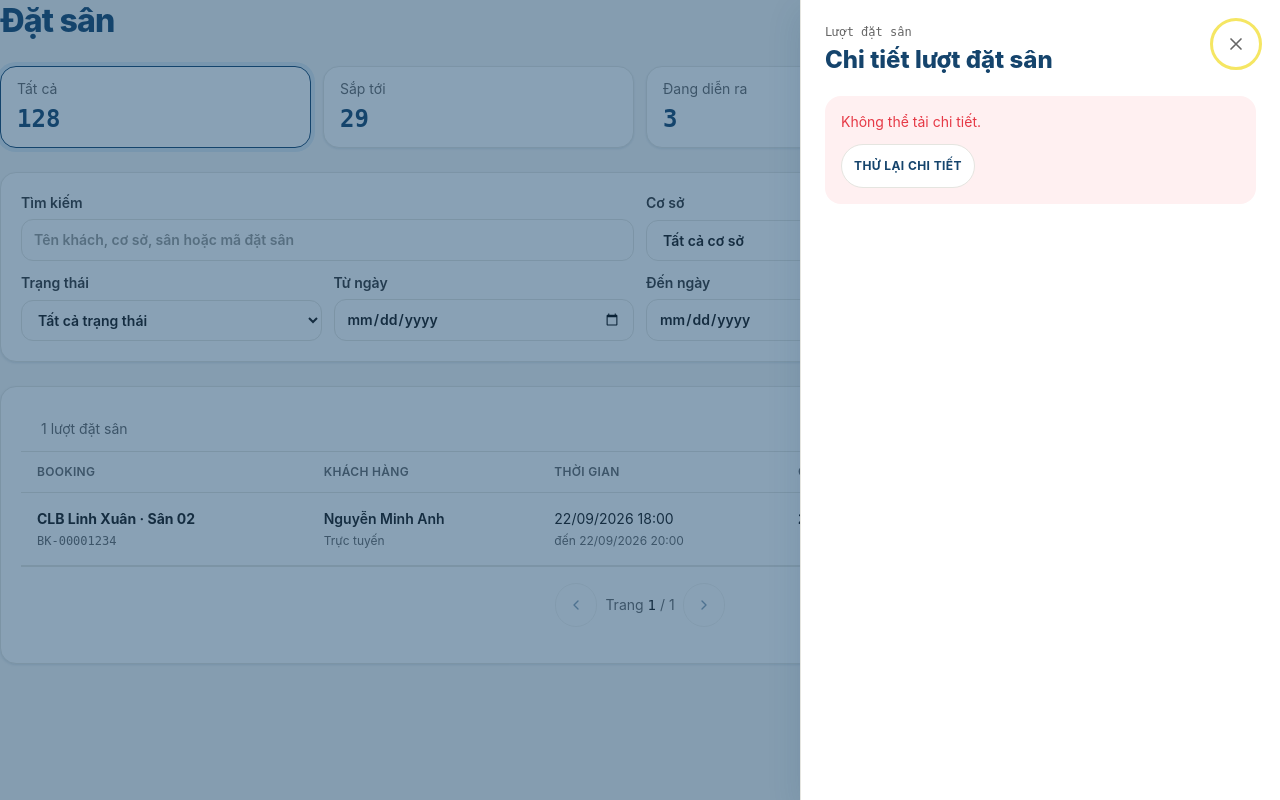
Test: ManageBookingsPage › shows guest contact only for an internal booking and retries detail errors
This screenshot has width=1280, height=800.
Expected: the message shows "Không thể tải chi tiết.", [841,113,981,130]
Click the button "Thử lại chi tiết" at (908,166), box [841,144,975,188]
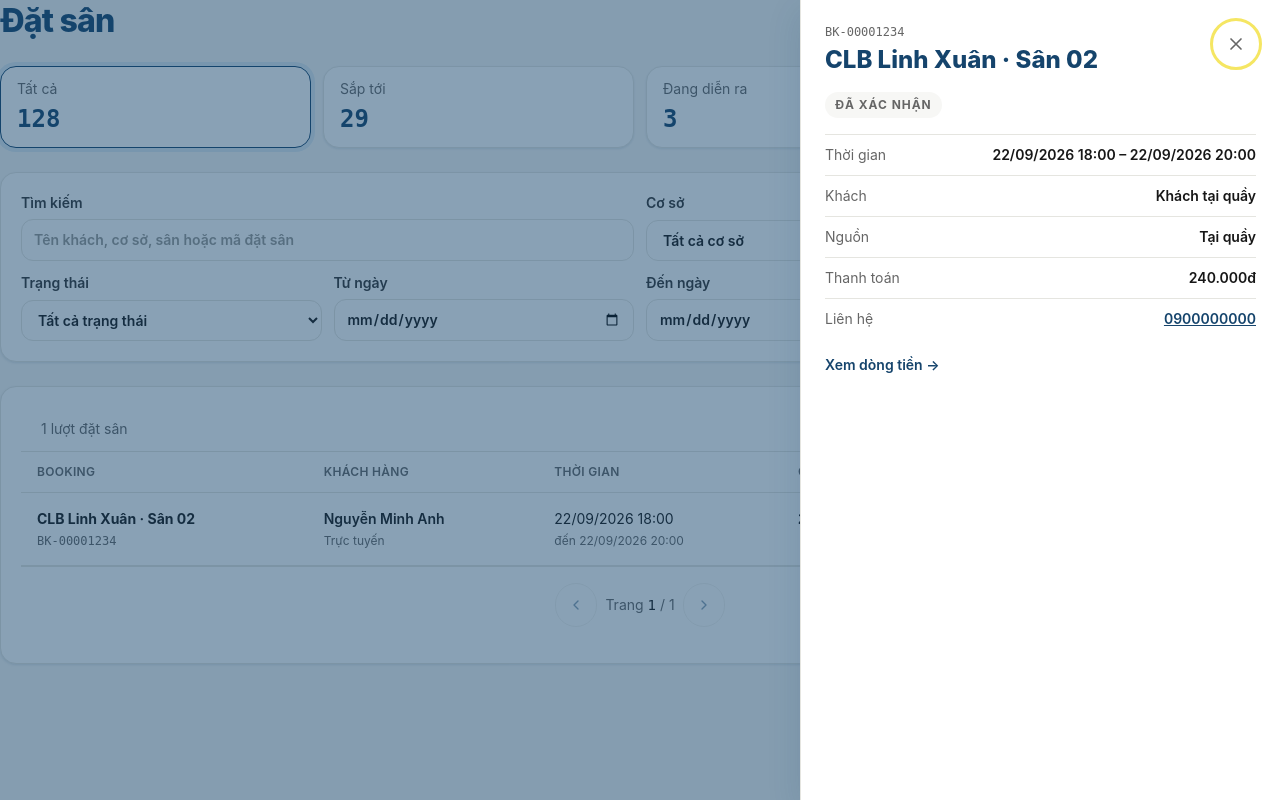
Result: the link "0900000000" is shown at [1164,310,1256,327]
